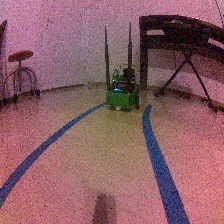rob: (104, 66, 142, 111)
